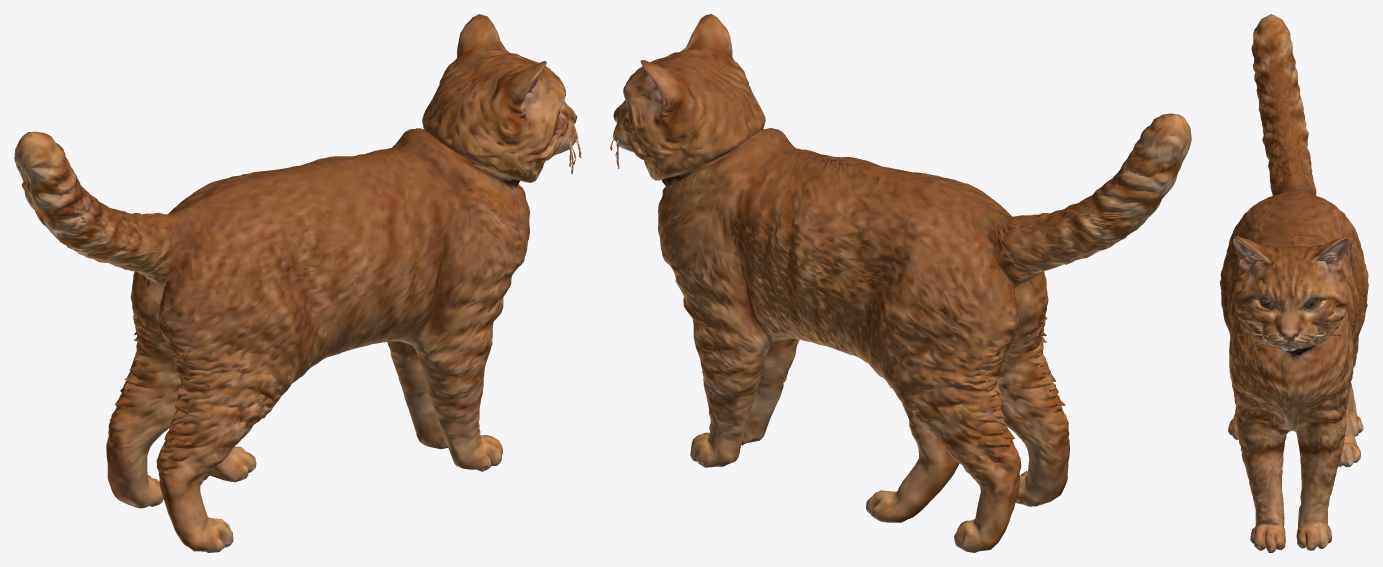
Rendered from HAMLETCAT.glb.
3 views of the same model, side by side, from view 1: azimuth 30°, elevation 25°; view 2: azimuth 150°, elevation 25°; view 3: azimuth 270°, elevation 25° (orthographic). The views are drawn at different scales.
Visible parts, largest first — view 1: tripo_node_cac38552-f9a1-4aba-b408-35f5ca4a29e2; view 2: tripo_node_cac38552-f9a1-4aba-b408-35f5ca4a29e2; view 3: tripo_node_cac38552-f9a1-4aba-b408-35f5ca4a29e2.
Part boxes in pixels (x1,y1,x2,y2): tripo_node_cac38552-f9a1-4aba-b408-35f5ca4a29e2: [14, 14, 581, 552]; tripo_node_cac38552-f9a1-4aba-b408-35f5ca4a29e2: [610, 14, 1191, 552]; tripo_node_cac38552-f9a1-4aba-b408-35f5ca4a29e2: [1220, 14, 1368, 552].
Bounding box in the file's own units: 1.35 × 0.9983 × 0.377.
Materials: 1 (1 with a texture image).
